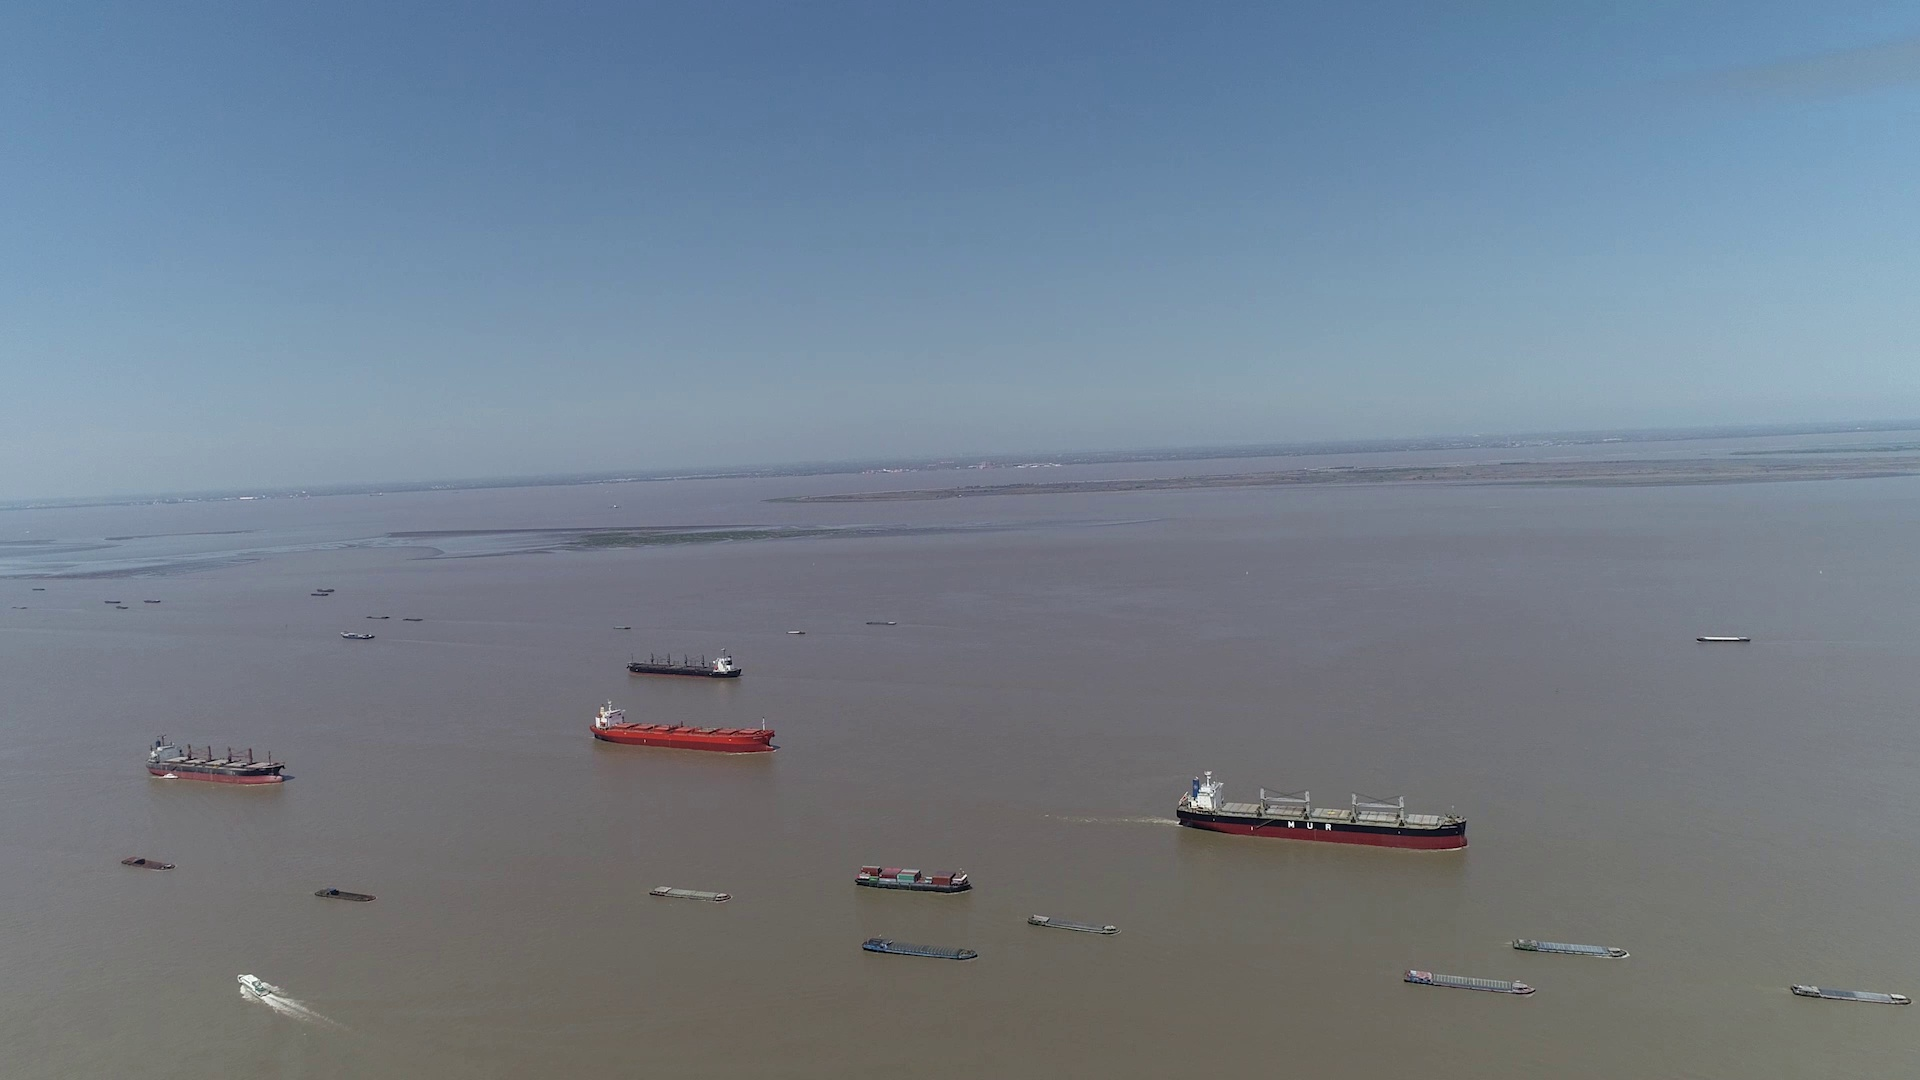ship: (1178, 771, 1469, 851), (591, 702, 775, 752), (150, 733, 289, 785), (1403, 967, 1540, 996), (855, 865, 971, 891), (628, 651, 738, 678), (1789, 982, 1913, 1005), (860, 938, 978, 960), (1511, 938, 1629, 959), (1029, 914, 1120, 935), (649, 886, 731, 903), (236, 975, 274, 1000), (120, 856, 174, 872), (315, 889, 375, 902), (1696, 634, 1750, 644), (340, 632, 375, 641)
